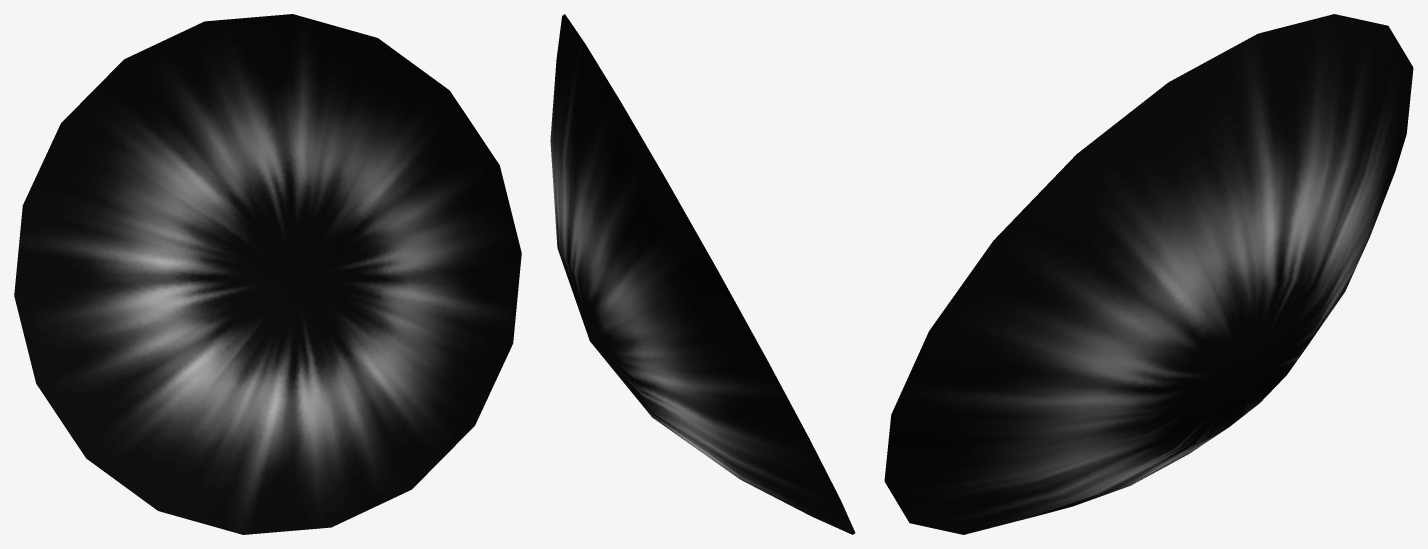
Rendered from fx_cookie0001_front_skill02_end.fbx.
3 renders of one model, left to right at view 1: azimuth 30°, elevation 25°; view 2: azimuth 150°, elevation 25°; view 3: azimuth 270°, elevation 25°, orthographic. The views are drawn at different scales.
Parts seen in each view (by area): view 1: mesh_01 (2); view 2: mesh_01 (2); view 3: mesh_01 (2).
Part boxes in pixels (x1,y1,x2,y2): mesh_01 (2): (14, 14, 521, 534); mesh_01 (2): (550, 14, 855, 534); mesh_01 (2): (884, 14, 1413, 534).
Bounding box in the file's own units: 483 × 571 × 483.
Materials: 1 (1 with a texture image).
